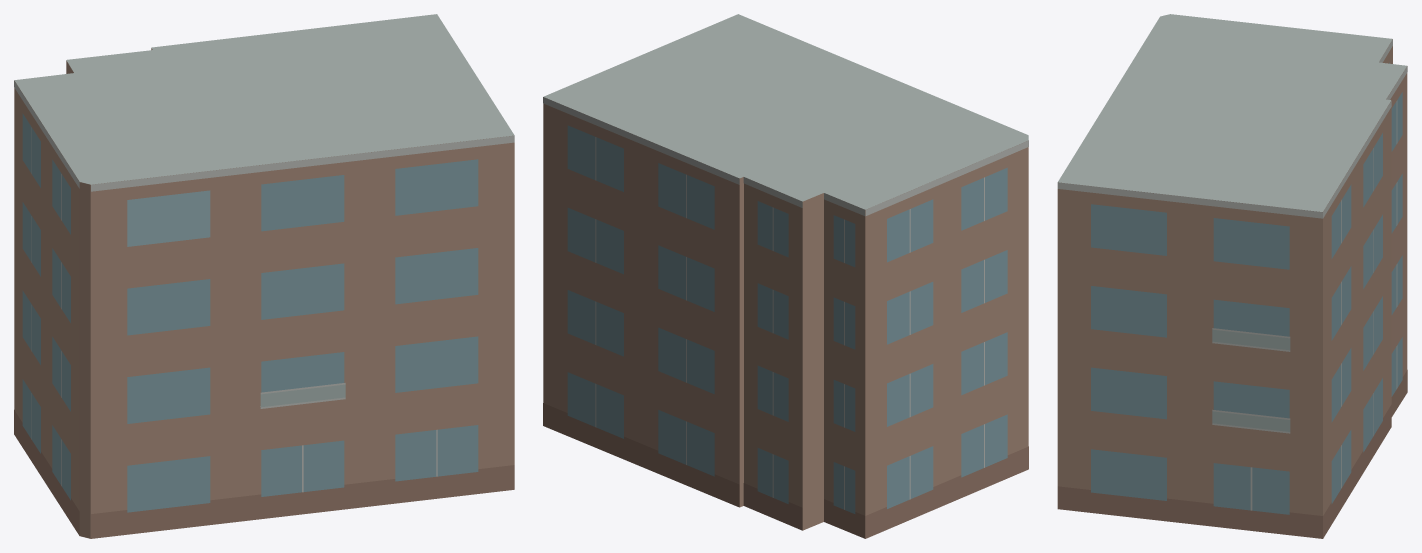
Rendered from survey-upis-32679282.glb.
The picture shows the model from 3 angles, left to right: view 1: azimuth 30°, elevation 25°; view 2: azimuth 150°, elevation 25°; view 3: azimuth 270°, elevation 25°; orthographic projection. The views are drawn at different scales.
Visible parts, largest first — view 1: survey-upis-32679282.tmp; view 2: survey-upis-32679282.tmp; view 3: survey-upis-32679282.tmp.
Boxes of the visible parts, left/top/right/bottom form: survey-upis-32679282.tmp: left=14, top=14, right=514, bottom=538; survey-upis-32679282.tmp: left=543, top=14, right=1028, bottom=538; survey-upis-32679282.tmp: left=1057, top=14, right=1407, bottom=538.
Bounding box in the file's own units: 15.87 × 12.2 × 11.85.
